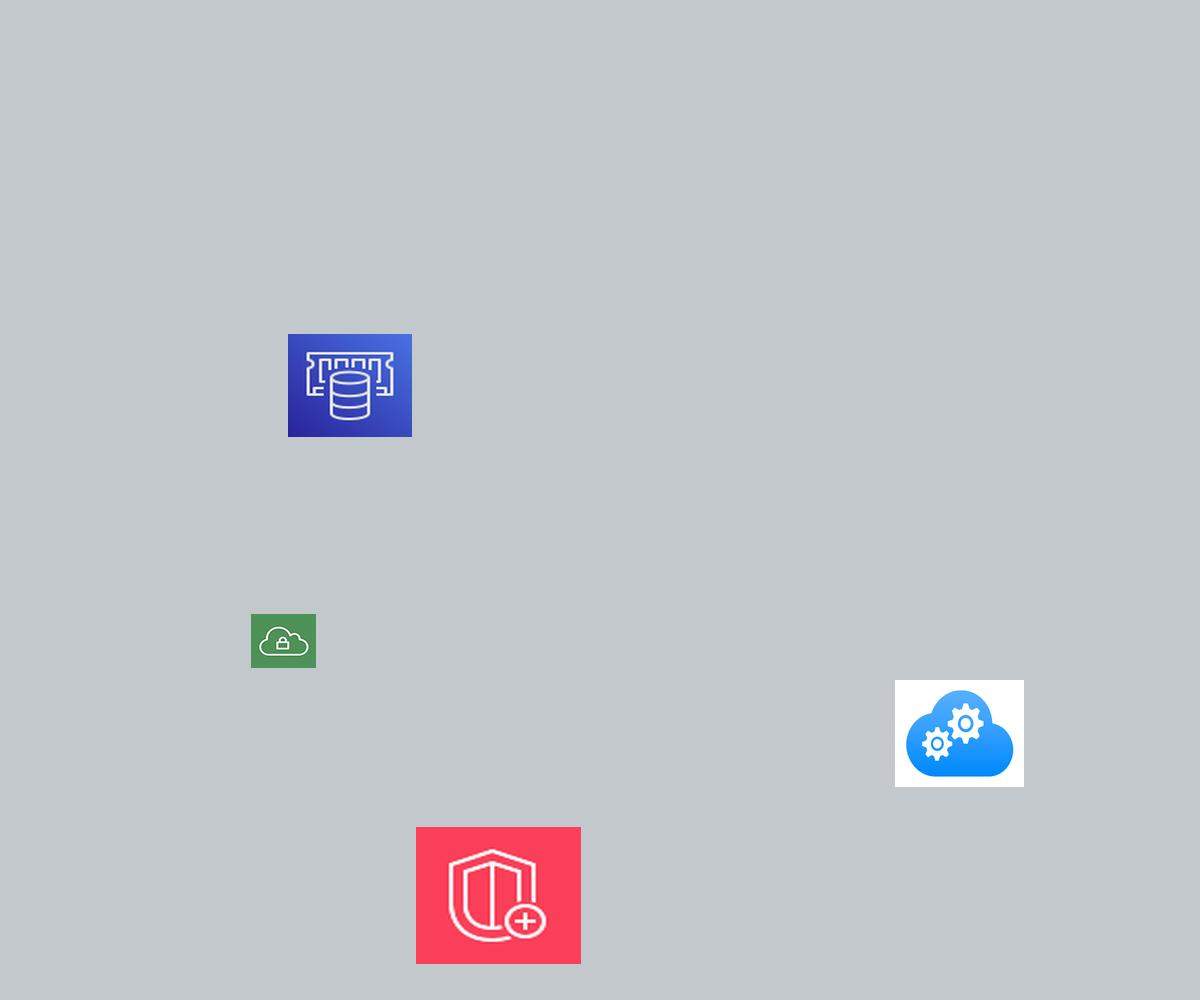AWS-ElastiCache: (288, 334, 412, 437)
AWS-Private_vpc: (251, 614, 316, 668)
AWS-Shield: (416, 827, 581, 964)
Azure_cloud_services: (895, 680, 1024, 787)
